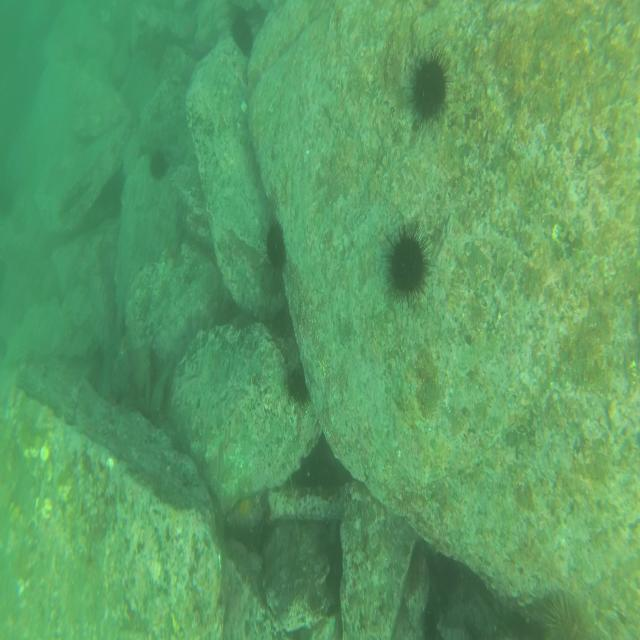echinus: (380, 221, 432, 307), (412, 46, 451, 130), (538, 594, 586, 638), (287, 367, 313, 410), (263, 223, 287, 263), (228, 18, 255, 53), (150, 147, 167, 182)
